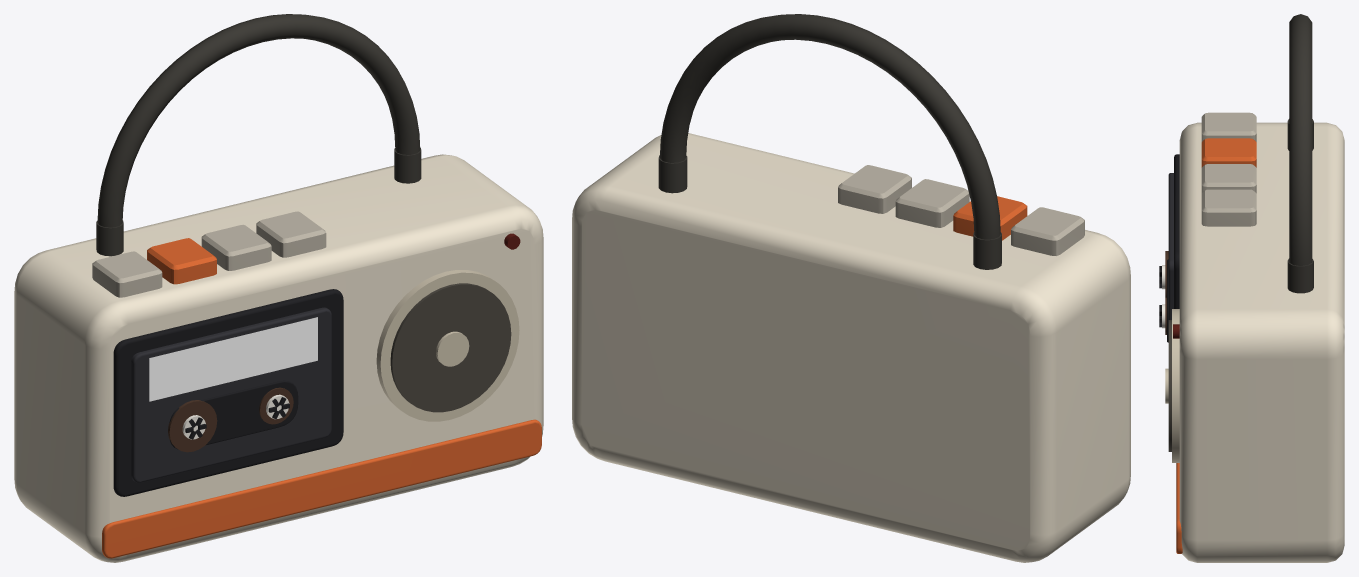
File: cassette.glb
3 renders of one model, left to right at view 1: azimuth 30°, elevation 25°; view 2: azimuth 150°, elevation 25°; view 3: azimuth 270°, elevation 25°, orthographic. The views are drawn at different scales.
Parts seen in each view (by area): view 1: Cream, Stripe, Handle, Well, Shell, Grille, Screen, Key, Rim, KeyPlay, ReelL, ReelR; view 2: Cream, Handle, Key, KeyPlay; view 3: Cream, Handle, Key, KeyPlay, Rim, Well, Shell, Grille, Stripe, ReelL.
Boxes of the visible parts, x1=… form: Cream: x1=14, y1=154, x2=543, y2=562; Stripe: x1=102, y1=419, x2=541, y2=558; Handle: x1=96, y1=14, x2=421, y2=256; Well: x1=113, y1=289, x2=343, y2=496; Shell: x1=131, y1=307, x2=331, y2=482; Grille: x1=390, y1=283, x2=511, y2=412; Screen: x1=149, y1=317, x2=317, y2=401; Key: x1=92, y1=211, x2=326, y2=297; Rim: x1=376, y1=270, x2=519, y2=421; KeyPlay: x1=147, y1=238, x2=216, y2=284; ReelL: x1=168, y1=400, x2=217, y2=452; ReelR: x1=259, y1=387, x2=293, y2=424; Cream: x1=572, y1=133, x2=1130, y2=562; Handle: x1=658, y1=14, x2=1001, y2=269; Key: x1=838, y1=165, x2=1084, y2=255; KeyPlay: x1=953, y1=196, x2=1027, y2=240; Cream: x1=1179, y1=122, x2=1344, y2=562; Handle: x1=1287, y1=14, x2=1313, y2=293; Key: x1=1201, y1=112, x2=1256, y2=226; KeyPlay: x1=1201, y1=138, x2=1256, y2=167; Rim: x1=1165, y1=309, x2=1179, y2=462; Well: x1=1167, y1=154, x2=1179, y2=342; Shell: x1=1168, y1=173, x2=1173, y2=319; Grille: x1=1168, y1=320, x2=1171, y2=451; Stripe: x1=1176, y1=463, x2=1182, y2=553; ReelL: x1=1159, y1=251, x2=1168, y2=297.
Bounding box in the file's own units: 0.46 × 0.438 × 0.1685.
